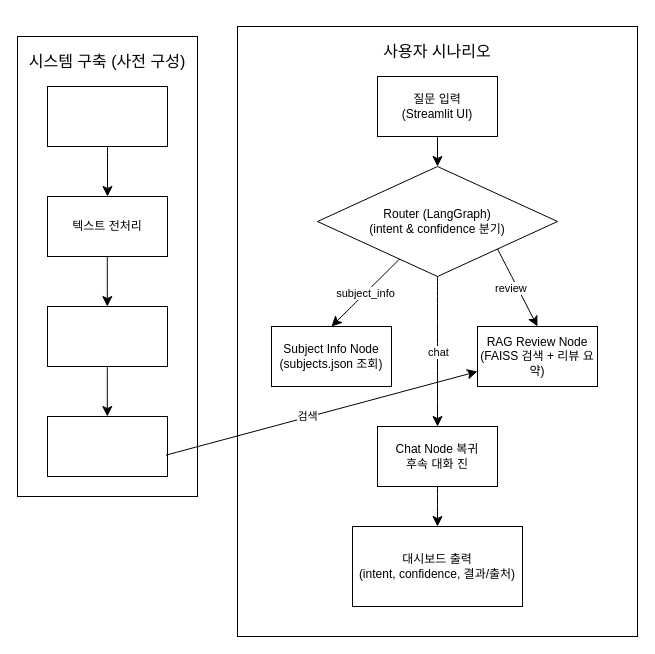
Some shapes in this 655 by 654 pixel diagram are drawn without their labels. The shapes that lost their labels are listed below. From the top down, each one's centre as x and y in pixels, then its label:
At pixel 107 116: "리뷰 데이터 로더 (csv)".
At pixel 107 336: "리뷰 임베딩 생성 (upstage )".
At pixel 107 446: "vector db 구축 (FAISS + meta)".
